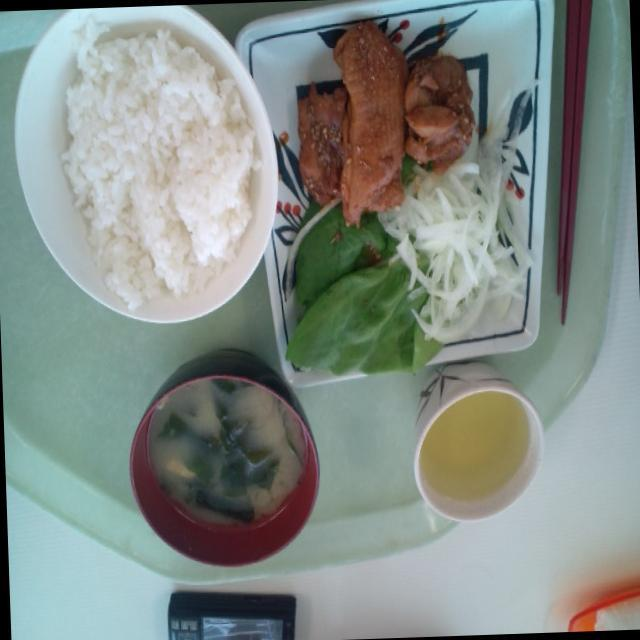Rice: (39, 23, 270, 305)
